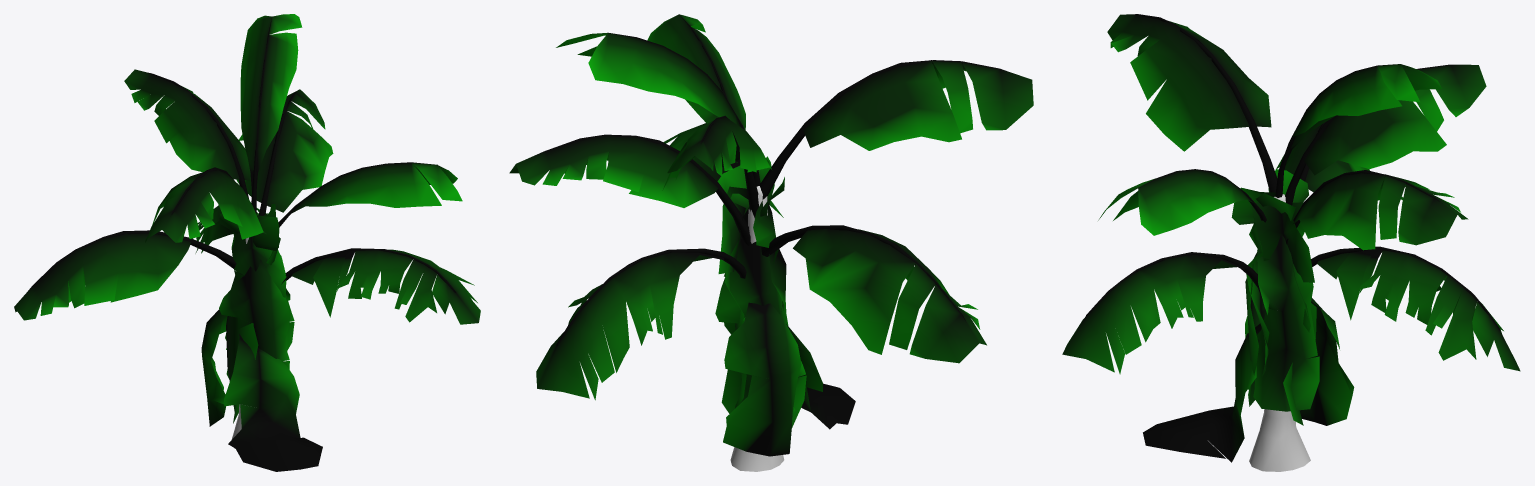
Rendered from BananaTree01_afsTREE_xlprl15_xlod01.fbx.
3 renders of one model, left to right at view 1: azimuth 30°, elevation 25°; view 2: azimuth 150°, elevation 25°; view 3: azimuth 270°, elevation 25°, orthographic. The views are drawn at different scales.
Parts seen in each view (by area): view 1: BananaLeaf_xw05_xt08_xlp04_xp05, DyingBranch_xw05_xt08_xlp05_xp05, DeadBananaLeaf_xw00_xt00_xlp00.003, BananaLeaf_xw10_xt08_xlp06_xp03, BananaLeaf_xw08_xt10_xlp05_xp06, BananaLeaf_xw08_xt08_xlp04, BananaLeaf_xw08_xt12_xlp05_xp09, BananaLeaf_xw07_xt10_xlp05_xp04, DeadBananaLeaf_xw00_xt00_xlp00.001, DeadBananaLeaf_xw00_xt00_xlp00.004, DeadBananaLeaf_xw02_xt02_xlp02_xp10, DeadBananaLeaf_xw00_xt00_xlp00.002 (+2 smaller); view 2: BananaLeaf_xw05_xt08_xlp04_xp05, BananaLeaf_xw07_xt10_xlp05_xp04, DyingBranch_xw05_xt08_xlp03_xp01, BananaLeaf_xw08_xt08_xlp04, DeadBananaLeaf_xw02_xt02_xlp02_xp10, BananaLeaf_xw10_xt08_xlp06_xp03, DeadBananaLeaf_xw00_xt00_xlp00.002, BananaLeaf_xw08_xt10_xlp05_xp06, BananaLeaf_xw08_xt12_xlp05_xp09, DeadBananaLeaf_xw00_xt00_xlp00.003, trunk_bananaTree01_xw05_xt04, DeadBananaLeaf_xw00_xt00_xlp00.005 (+4 smaller); view 3: BananaLeaf_xw07_xt10_xlp05_xp04, DyingBranch_xw05_xt08_xlp03_xp01, DyingBranch_xw05_xt08_xlp05_xp05, BananaLeaf_xw08_xt10_xlp05_xp06, BananaLeaf_xw08_xt08_xlp04, DeadBananaLeaf_xw00_xt00_xlp00, BananaLeaf_xw10_xt08_xlp06_xp03, BananaLeaf_xw08_xt12_xlp05_xp09, DeadBananaLeaf_xw00_xt00_xlp00.003, DeadBananaLeaf_xw02_xt02_xlp02_xp10, trunk_bananaTree01_xw05_xt04, DeadBananaLeaf_xw00_xt00_xlp00.005 (+6 smaller).
Boxes of the visible parts, <box> form: BananaLeaf_xw05_xt08_xlp04_xp05: <box>14,230,236,320</box>; DyingBranch_xw05_xt08_xlp05_xp05: <box>281,248,480,324</box>; DeadBananaLeaf_xw00_xt00_xlp00.003: <box>224,334,322,471</box>; BananaLeaf_xw10_xt08_xlp06_xp03: <box>240,14,302,214</box>; BananaLeaf_xw08_xt10_xlp05_xp06: <box>124,69,250,198</box>; BananaLeaf_xw08_xt08_xlp04: <box>236,89,333,215</box>; BananaLeaf_xw08_xt12_xlp05_xp09: <box>278,162,462,227</box>; BananaLeaf_xw07_xt10_xlp05_xp04: <box>145,167,263,242</box>; DeadBananaLeaf_xw00_xt00_xlp00.001: <box>219,259,290,378</box>; DeadBananaLeaf_xw00_xt00_xlp00.004: <box>225,231,294,350</box>; DeadBananaLeaf_xw02_xt02_xlp02_xp10: <box>201,309,227,426</box>; DeadBananaLeaf_xw00_xt00_xlp00.002: <box>226,316,258,423</box>; BananaLeaf_xw05_xt08_xlp04_xp05: <box>761,225,986,363</box>; BananaLeaf_xw07_xt10_xlp05_xp04: <box>760,60,1033,199</box>; DyingBranch_xw05_xt08_xlp03_xp01: <box>536,248,746,400</box>; BananaLeaf_xw08_xt08_xlp04: <box>509,134,750,245</box>; DeadBananaLeaf_xw02_xt02_xlp02_xp10: <box>723,302,801,456</box>; BananaLeaf_xw10_xt08_xlp06_xp03: <box>556,32,760,186</box>; DeadBananaLeaf_xw00_xt00_xlp00.002: <box>715,216,806,428</box>; BananaLeaf_xw08_xt10_xlp05_xp06: <box>662,115,771,218</box>; BananaLeaf_xw08_xt12_xlp05_xp09: <box>647,14,745,165</box>; DeadBananaLeaf_xw00_xt00_xlp00.003: <box>786,324,855,429</box>; trunk_bananaTree01_xw05_xt04: <box>730,186,784,471</box>; DeadBananaLeaf_xw00_xt00_xlp00.005: <box>718,186,748,273</box>; BananaLeaf_xw07_xt10_xlp05_xp04: <box>1107,14,1277,192</box>; DyingBranch_xw05_xt08_xlp03_xp01: <box>1311,246,1520,371</box>; DyingBranch_xw05_xt08_xlp05_xp05: <box>1062,252,1262,374</box>; BananaLeaf_xw08_xt10_xlp05_xp06: <box>1285,64,1486,205</box>; BananaLeaf_xw08_xt08_xlp04: <box>1285,170,1468,250</box>; DeadBananaLeaf_xw00_xt00_xlp00: <box>1248,235,1319,411</box>; BananaLeaf_xw10_xt08_xlp06_xp03: <box>1275,64,1441,197</box>; BananaLeaf_xw08_xt12_xlp05_xp09: <box>1098,169,1266,235</box>; DeadBananaLeaf_xw00_xt00_xlp00.003: <box>1143,323,1261,462</box>; DeadBananaLeaf_xw02_xt02_xlp02_xp10: <box>1299,298,1354,425</box>; trunk_bananaTree01_xw05_xt04: <box>1249,194,1310,471</box>; DeadBananaLeaf_xw00_xt00_xlp00.005: <box>1249,202,1314,282</box>.
Size of the model in its own units: 5.32 by 4.86 by 5.13.
